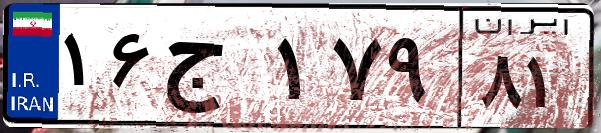1: (270, 28, 330, 110), (57, 26, 110, 100), (525, 38, 570, 115)
6: (110, 28, 158, 98)
7: (330, 28, 385, 110)
8: (475, 38, 525, 113)
9: (385, 28, 445, 110)
ج: (158, 20, 270, 120)
